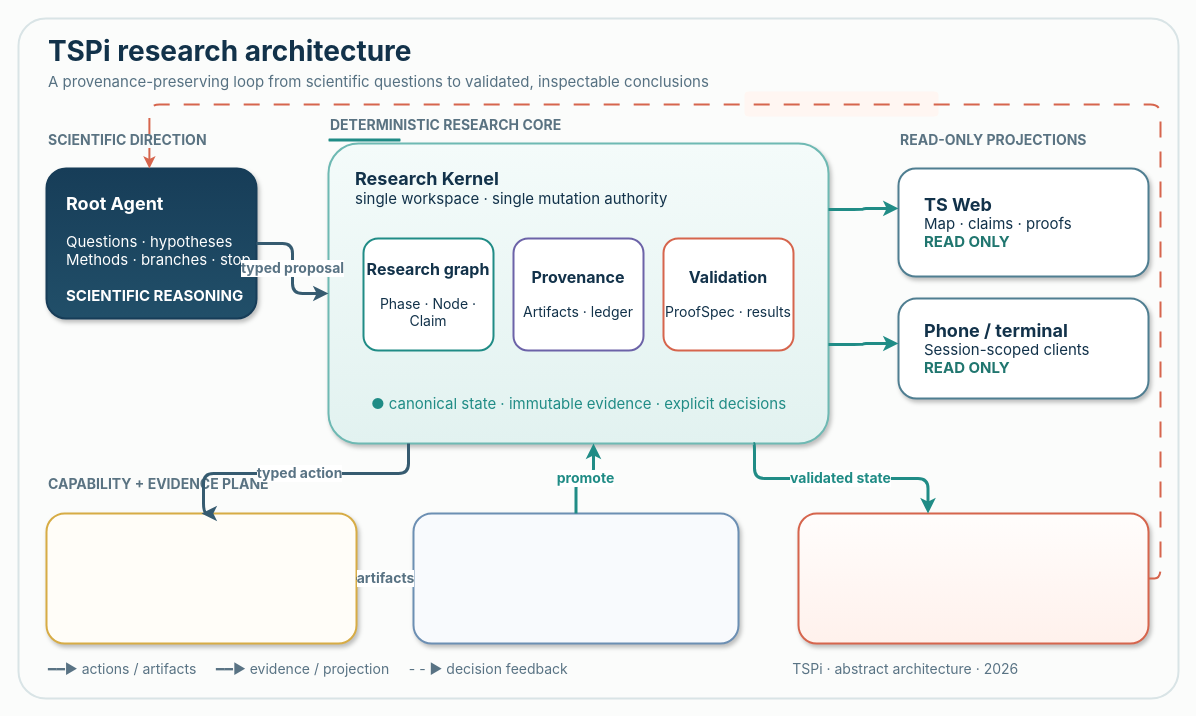
The diagram is 1196 pixels wide and 716 high, and some of its shapes have lost their labels. Here are the shapes that lost their labels. From the top down, the centre of each, then its label:
At point (841, 103): "decision · next question".
At point (202, 579): "Bounded capabilities typed action adapters G16 xTB CREST ASE SSH Render".
At point (576, 579): "Evidence path Artifact → Candidate → Observation → Proof ○～～○～～○～～●".
At point (974, 579): "Scientific outcome supported · open · blocked · stale ●━━╱╲╱╲━━●".
